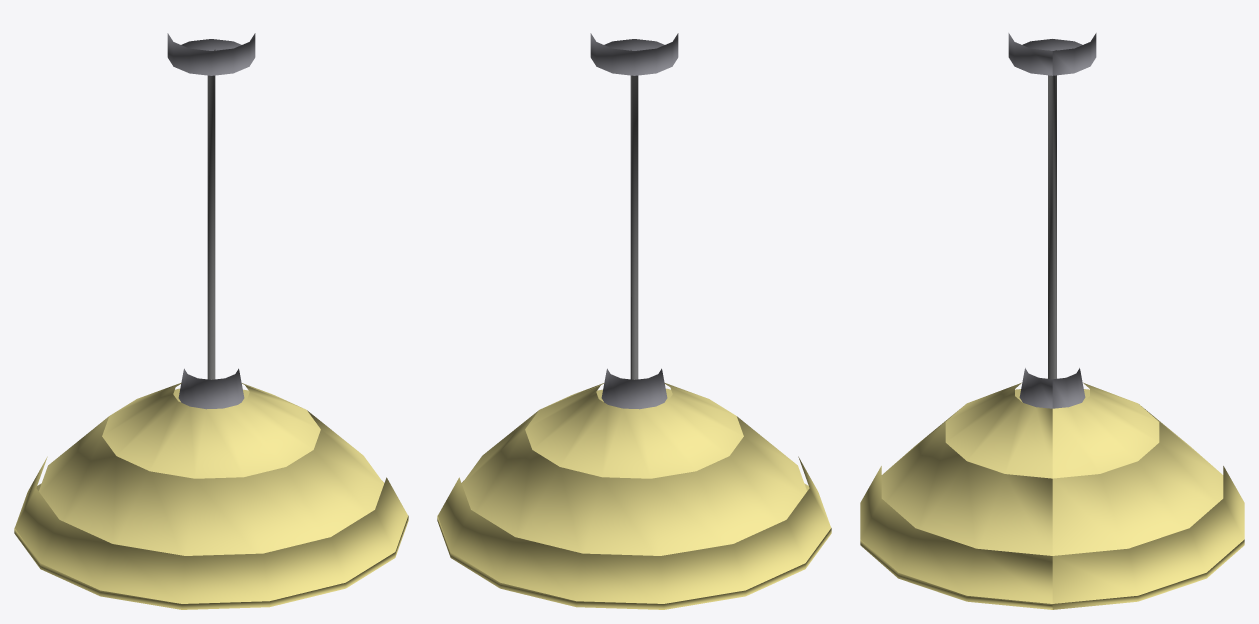
The model's file is pendant_light.glb.
3 renders of one model, left to right at view 1: azimuth 30°, elevation 25°; view 2: azimuth 150°, elevation 25°; view 3: azimuth 270°, elevation 25°, orthographic.
Parts seen in each view (by area): view 1: shade_mid, shade_lower, shade_upper, ceiling_cup, cord, shade_rim, socket_cover; view 2: shade_mid, shade_lower, shade_upper, ceiling_cup, cord, shade_rim, socket_cover; view 3: shade_mid, shade_lower, shade_upper, ceiling_cup, cord, shade_rim, socket_cover.
Part boxes in pixels (box(x1,y1,x2,y2)): shade_mid: box(39, 410, 383, 555); shade_lower: box(15, 456, 407, 603); shade_upper: box(102, 383, 320, 478); ceiling_cup: box(167, 33, 255, 75); cord: box(207, 49, 215, 379); shade_rim: box(14, 515, 408, 609); socket_cover: box(178, 368, 244, 409); shade_mid: box(462, 410, 806, 555); shade_lower: box(438, 456, 830, 603); shade_upper: box(525, 383, 743, 478); ceiling_cup: box(590, 33, 678, 75); cord: box(630, 49, 638, 379); shade_rim: box(437, 515, 831, 609); socket_cover: box(601, 368, 667, 409); shade_mid: box(881, 404, 1223, 555); shade_lower: box(860, 466, 1244, 603); shade_upper: box(945, 382, 1159, 478); ceiling_cup: box(1008, 33, 1096, 75); cord: box(1048, 50, 1056, 379); shade_rim: box(860, 539, 1244, 609); socket_cover: box(1019, 368, 1085, 408).
Size of the model in its own units: 0.36 by 0.4975 by 0.351.
